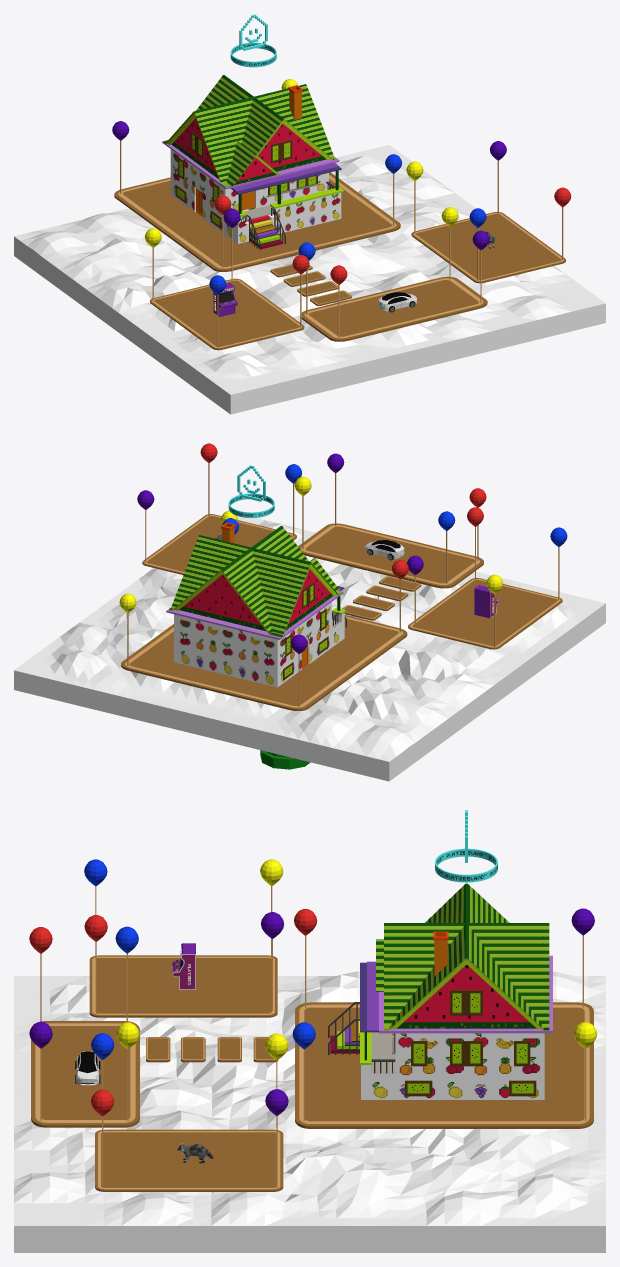
3 views of the same model, one above another, from view 1: azimuth 30°, elevation 25°; view 2: azimuth 150°, elevation 25°; view 3: azimuth 270°, elevation 25° (orthographic). The views are drawn at different scales.
Visible parts, largest first — view 1: Cube.013, Cube.1063, TYPE_PREMIUM, OBJRANDOM_ARCADE, VEHICLES_TESLA; view 2: Cube.013, Cube.1063, TYPE_PREMIUM, OBJRANDOM_ARCADE, VEHICLES_TESLA, UNDERGROUND_PIPES; view 3: Cube.013, Cube.1063, TYPE_PREMIUM, OBJRANDOM_ARCADE, VEHICLES_TESLA.
Part boxes in pixels (box(x1,y1,x2,y2)): Cube.013: box(14, 79, 605, 414); Cube.1063: box(162, 75, 343, 250); TYPE_PREMIUM: box(230, 14, 276, 67); OBJRANDOM_ARCADE: box(213, 282, 237, 316); VEHICLES_TESLA: box(378, 292, 417, 312); Cube.013: box(14, 443, 605, 781); Cube.1063: box(166, 522, 346, 687); TYPE_PREMIUM: box(228, 465, 274, 517); OBJRANDOM_ARCADE: box(474, 585, 498, 618); VEHICLES_TESLA: box(365, 540, 404, 560); UNDERGROUND_PIPES: box(260, 750, 310, 769); Cube.013: box(14, 859, 605, 1252); Cube.1063: box(328, 883, 552, 1099); TYPE_PREMIUM: box(435, 810, 497, 882); OBJRANDOM_ARCADE: box(172, 943, 195, 989); VEHICLES_TESLA: box(75, 1051, 100, 1085).
Bounding box in the file's own units: 4000 × 3027 × 4000.
37 materials, 4 textured.
